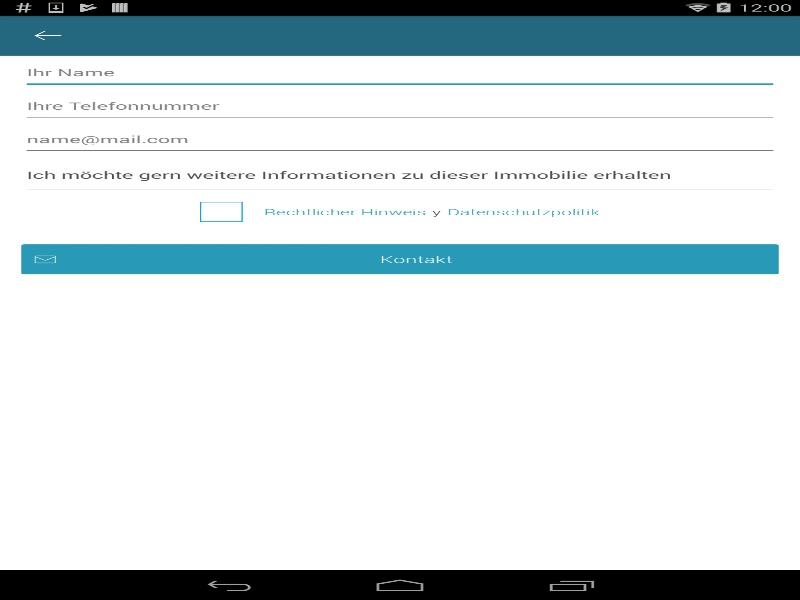Button: (10, 15, 85, 55)
Input: (21, 155, 778, 194), (21, 55, 778, 89), (21, 89, 778, 122), (21, 122, 778, 155)
